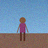person: (17, 17, 28, 41)
